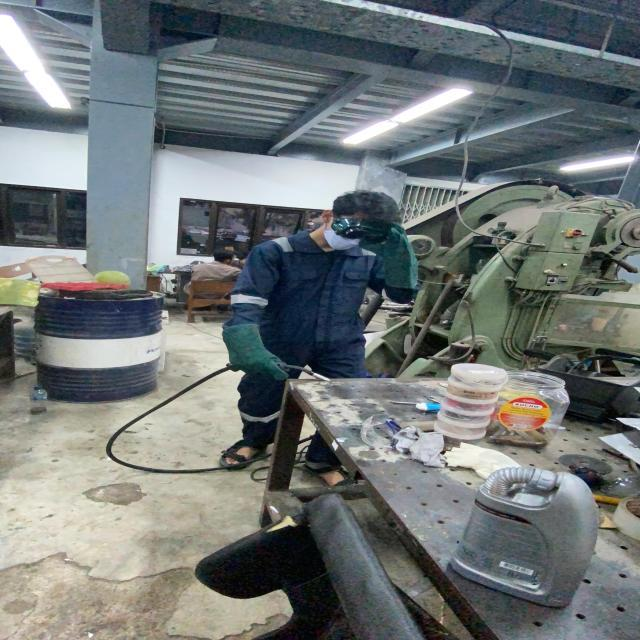glasses: (327, 213, 393, 246)
